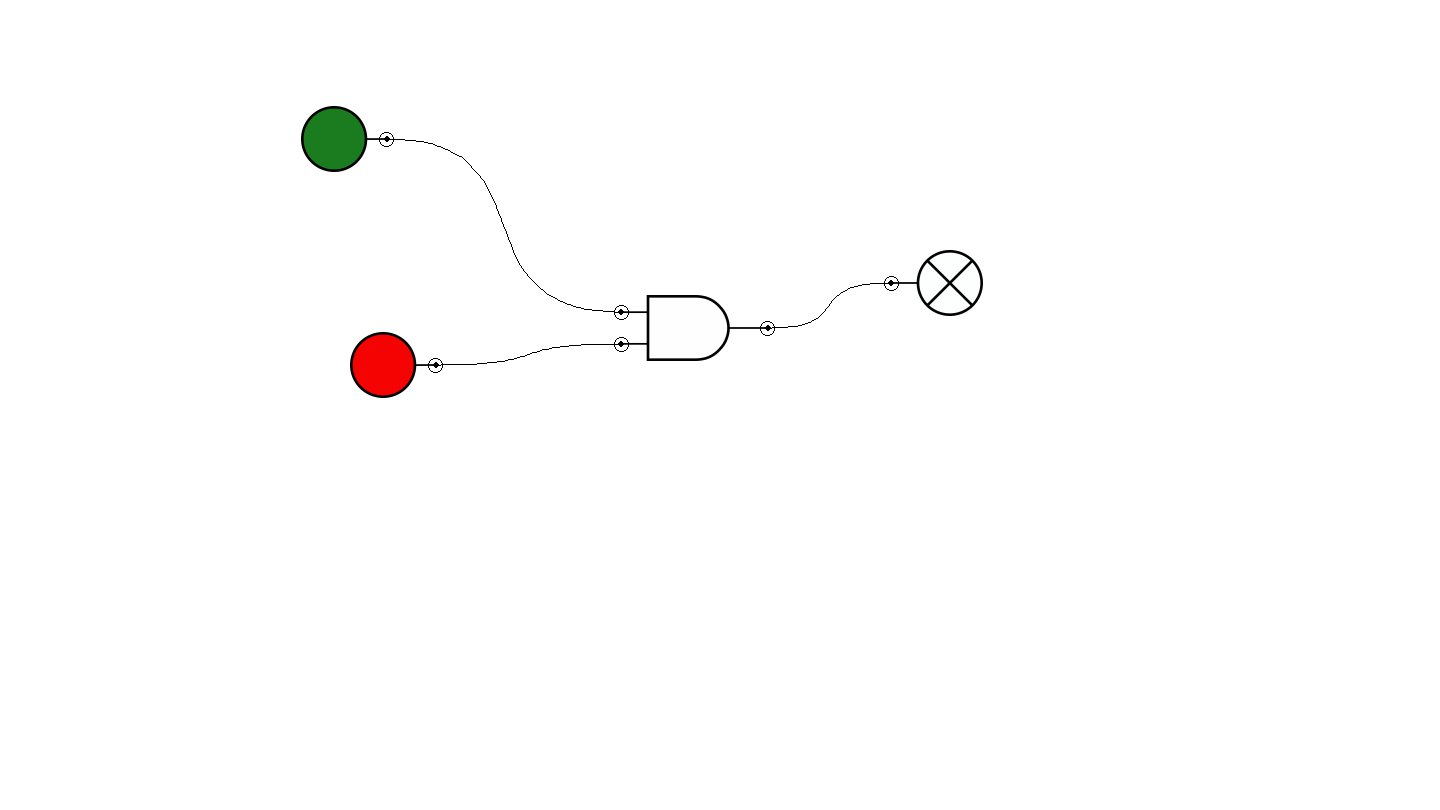and: (614, 295, 775, 361)
bulb: (884, 250, 983, 316)
switch_False: (350, 332, 443, 398)
switch_True: (301, 106, 394, 172)
